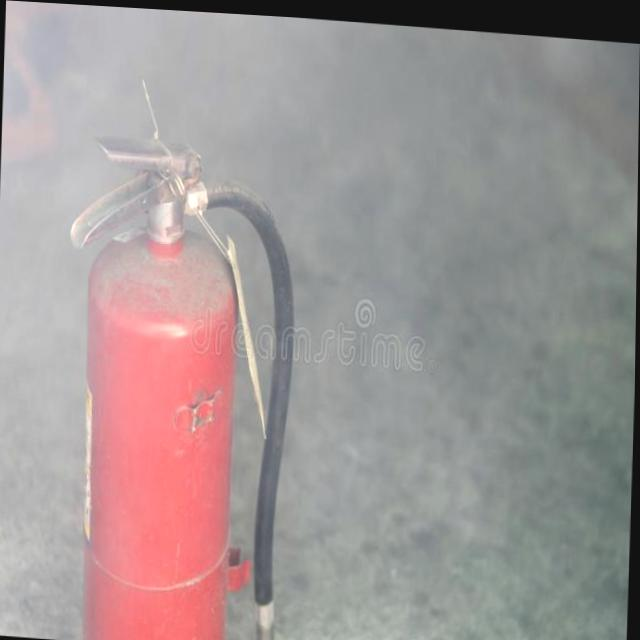FireExtinguisher: (55, 124, 301, 640)
